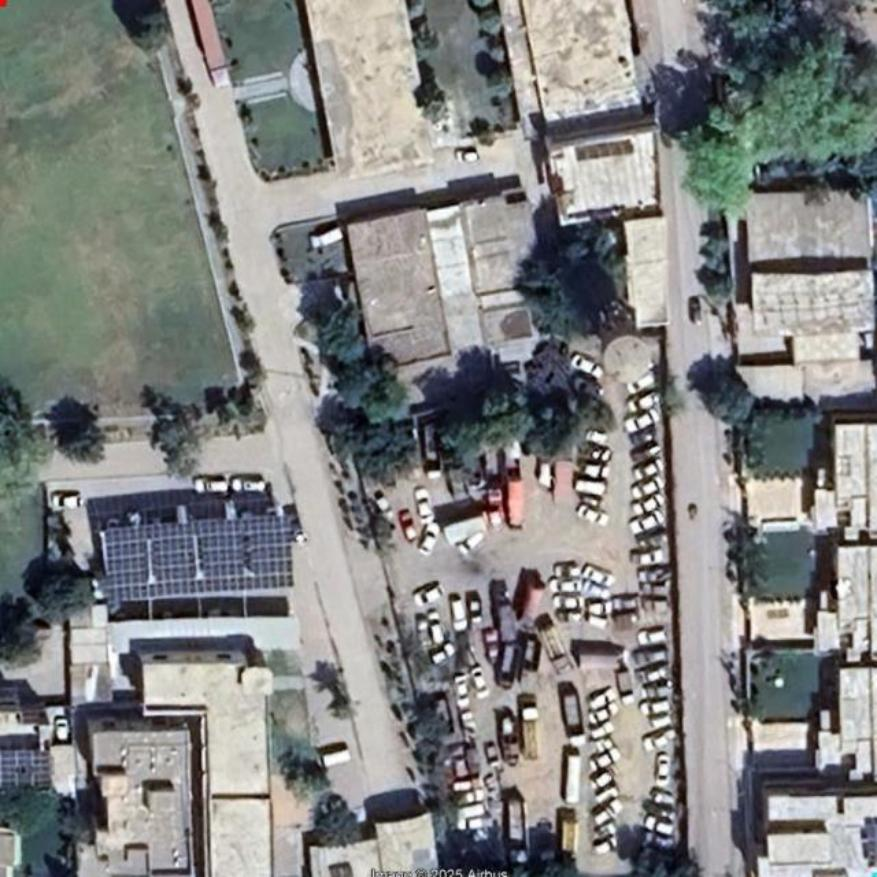Solarpanel: (106, 516, 294, 602), (0, 748, 52, 789)
